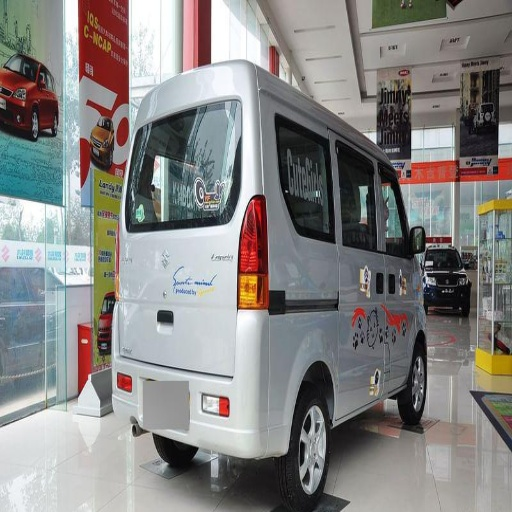back_bumper: (112, 364, 289, 453)
back_right_door: (286, 143, 325, 253)
front_left_light: (175, 145, 233, 212)
trunk: (115, 240, 434, 447)
